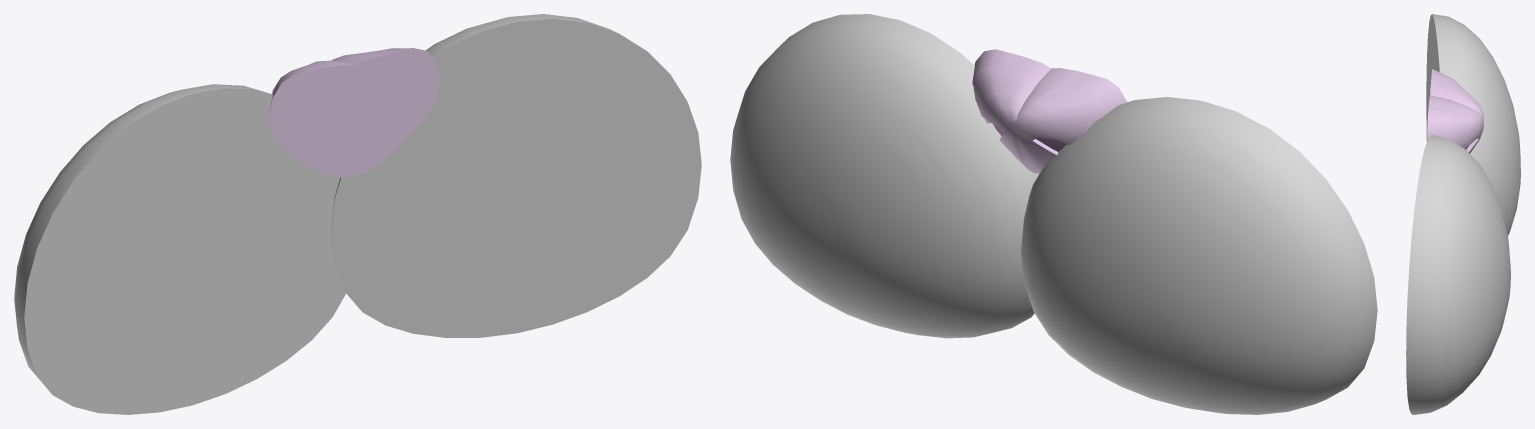
Rendered from Cat Face.fbx.
The picture shows the model from 3 angles, left to right: view 1: azimuth 30°, elevation 25°; view 2: azimuth 150°, elevation 25°; view 3: azimuth 270°, elevation 25°; orthographic projection. The views are drawn at different scales.
Visible parts, largest first — view 1: Cat Face; view 2: Cat Face; view 3: Cat Face.
Boxes of the visible parts, x1,y1,x2,y2 form: Cat Face: (14, 14, 701, 414); Cat Face: (730, 14, 1377, 414); Cat Face: (1406, 14, 1520, 414).
Size of the model in its own units: 89.46 by 40.09 by 17.13.
